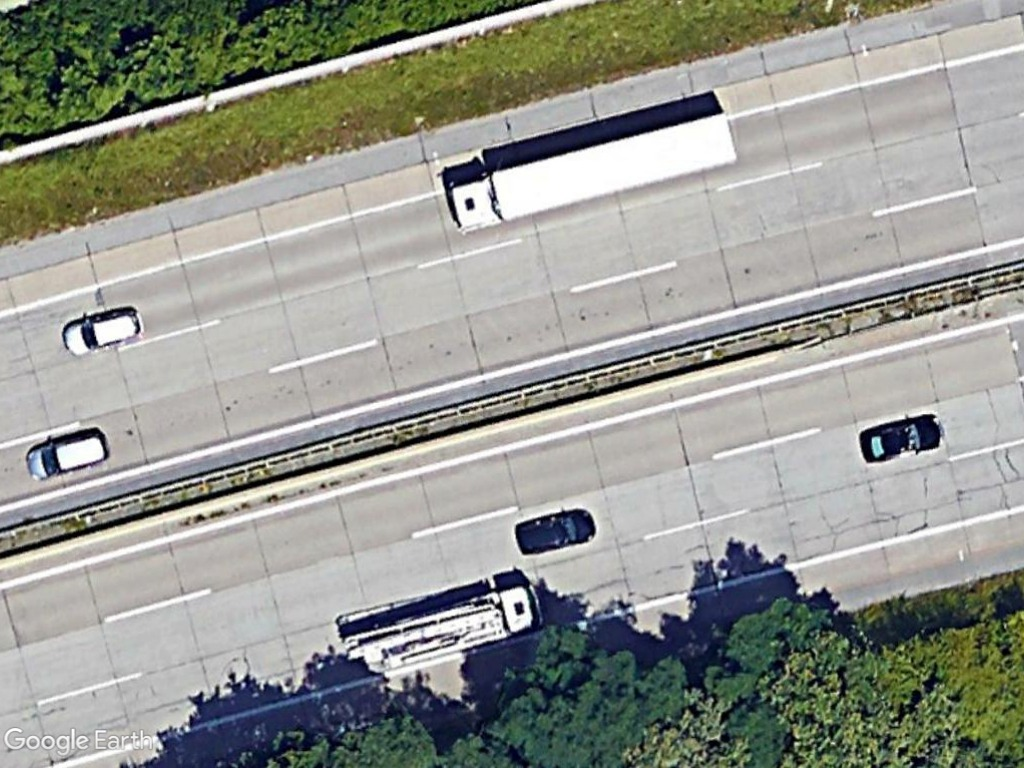car: (20, 424, 116, 486), (508, 499, 604, 560), (856, 408, 949, 467), (58, 303, 150, 359)
longvehicle: (441, 110, 746, 239)
